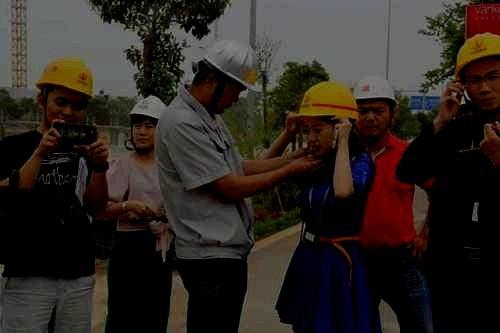helmet: (193, 39, 262, 114), (293, 79, 360, 156), (35, 56, 94, 129), (454, 32, 500, 111), (353, 74, 397, 136), (128, 94, 167, 148)
